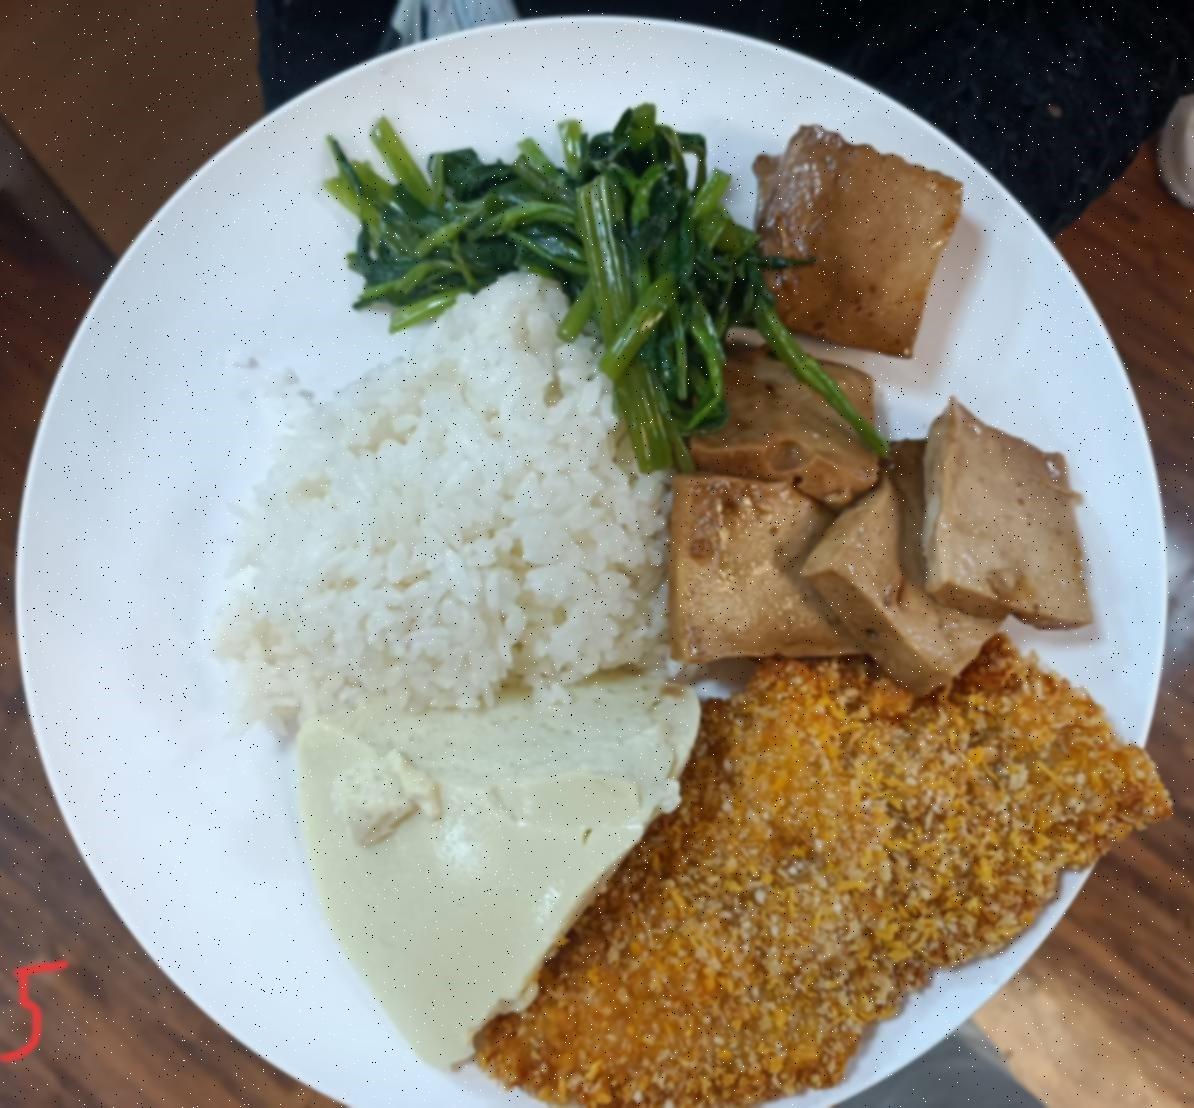big fried chicken leg: (3, 18, 1171, 1098)
big herbal chicken leg: (230, 303, 670, 702)
braised fish fillet: (687, 140, 1073, 664), (279, 678, 708, 1062), (353, 123, 753, 349)
braised pork: (499, 653, 1120, 1100)
